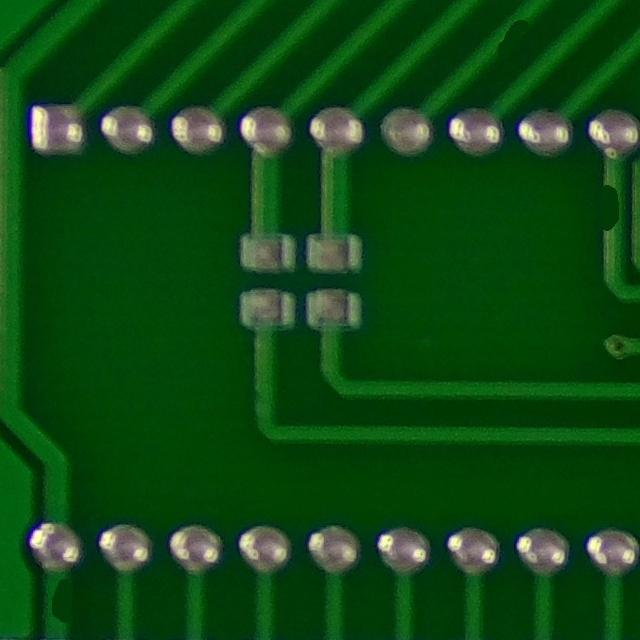mouse_bite: (580, 173, 639, 244), (29, 572, 91, 637), (482, 14, 544, 65)
